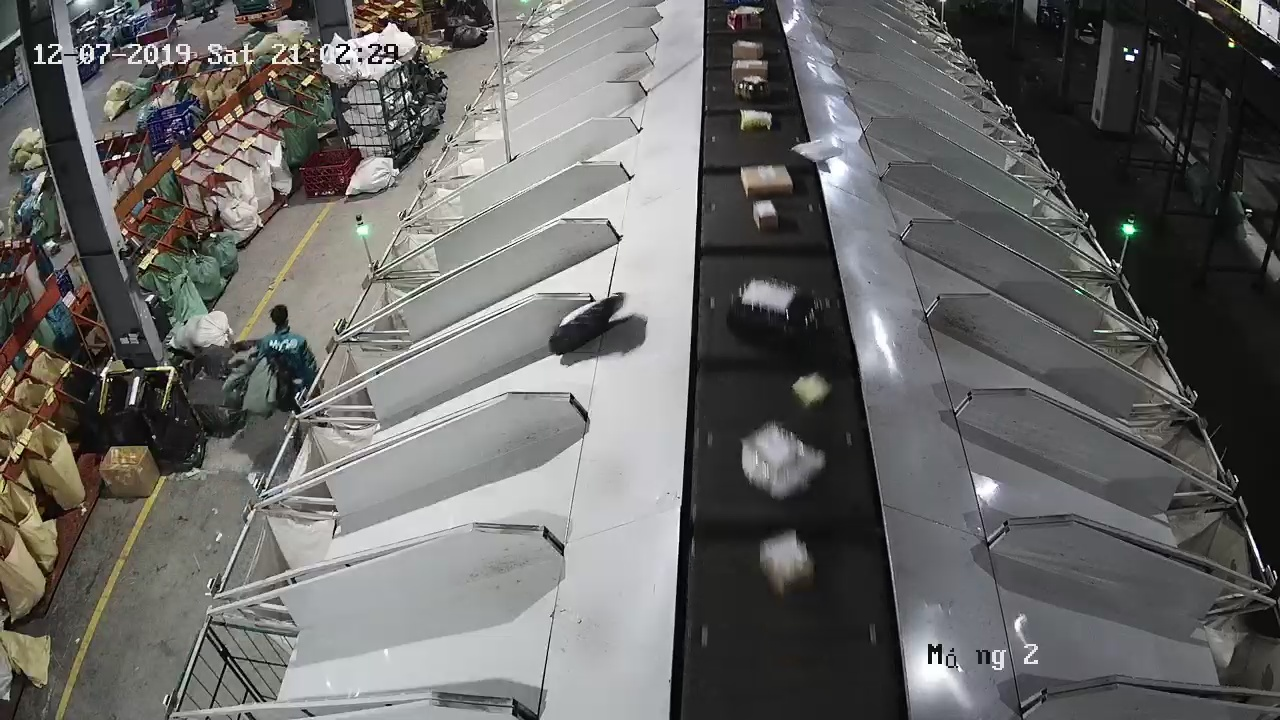parcel: (547, 292, 627, 358), (789, 370, 832, 409), (787, 138, 844, 164)
